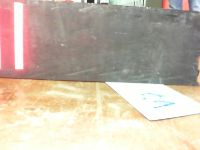switch: (13, 1, 24, 70)
